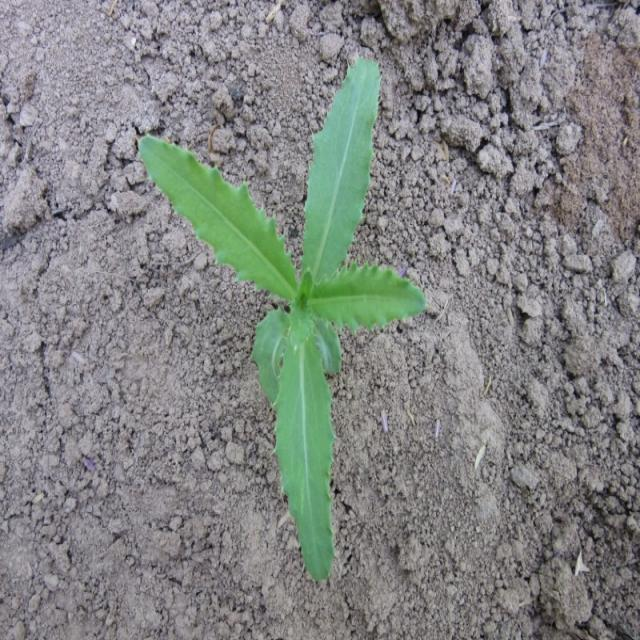field_thistle: (115, 50, 426, 533)
